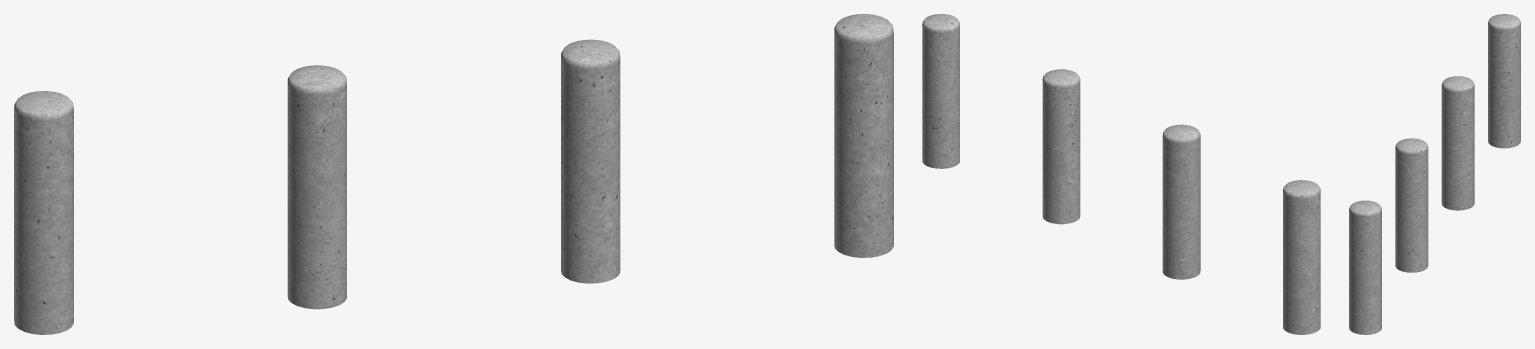
Rendered from post_barrier.glb.
3 renders of one model, left to right at view 1: azimuth 30°, elevation 25°; view 2: azimuth 150°, elevation 25°; view 3: azimuth 270°, elevation 25°, orthographic. The views are drawn at different scales.
Parts seen in each view (by area): view 1: post_barrier; view 2: post_barrier; view 3: post_barrier.
Part boxes in pixels (x1,y1,x2,y2): post_barrier: (14,14,893,334); post_barrier: (922,14,1320,334); post_barrier: (1349,14,1520,334).
Bounding box in the file's own units: 3.57 × 1.02 × 1.3.
1 material, 1 textured.
